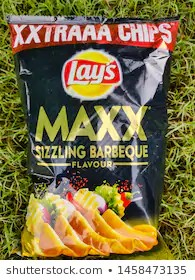lays-med: (20, 21, 179, 255)
